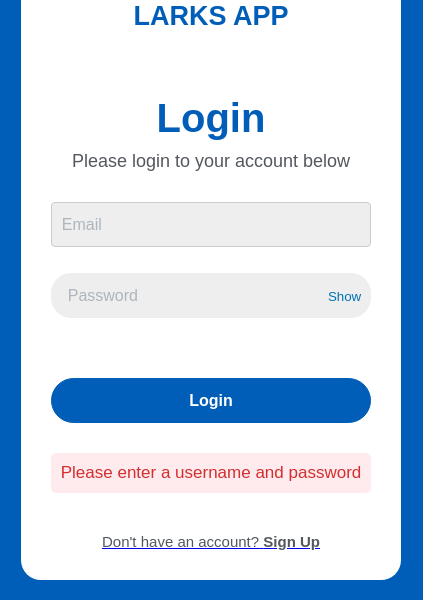
Log In › Should allow the user to navigate to the login page
The width and height of the screenshot is (423, 600).
(page scrolled)
Click the element with test id "loginSignUpBttn" at (211, 542), box x1=102 y1=533 x2=320 y2=550
(page scrolled)
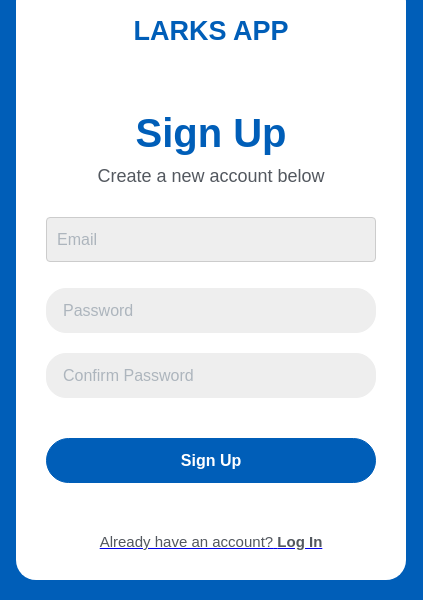
Click the element with test id "signUpLoginBtn" at (212, 542), box x1=100 y1=533 x2=323 y2=550
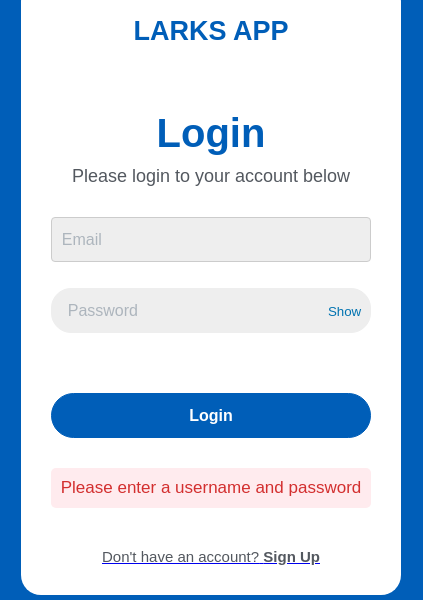
Expected: the field with test id "loginEmail" is shown, x1=51 y1=217 x2=372 y2=262
